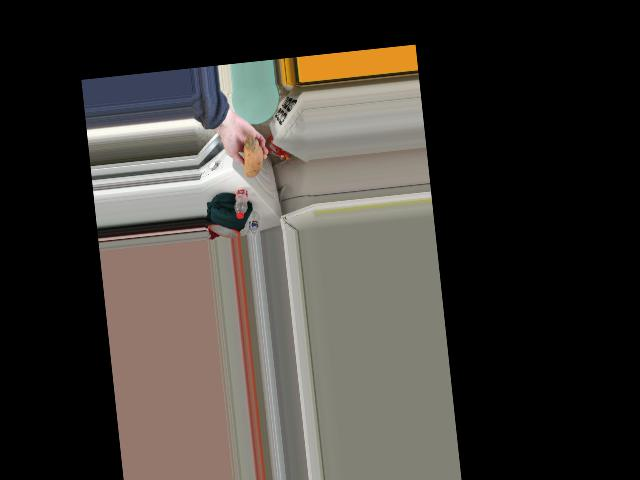sweet_potato: (241, 138, 264, 187)
